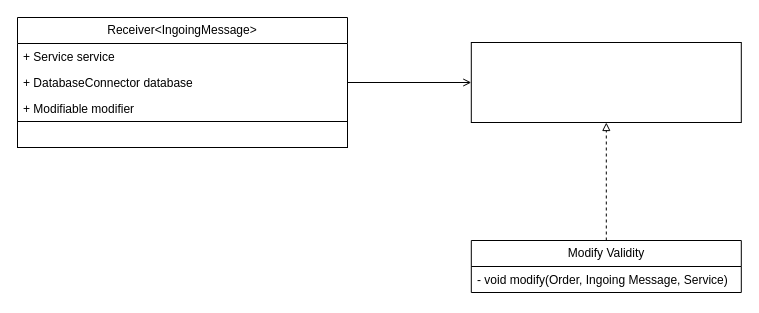
Image size: 759x313. Some labels were removed from this diagram. Here are the shapes that lost their labels. From the top down, the centre of each, then its label:
At point 605,82: "«interface» Modifiable - void modify(Order, IngoingMessage, Service)".
At point 182,134: "- void onMesageReceived(route, replyTo, corrId, message)".
